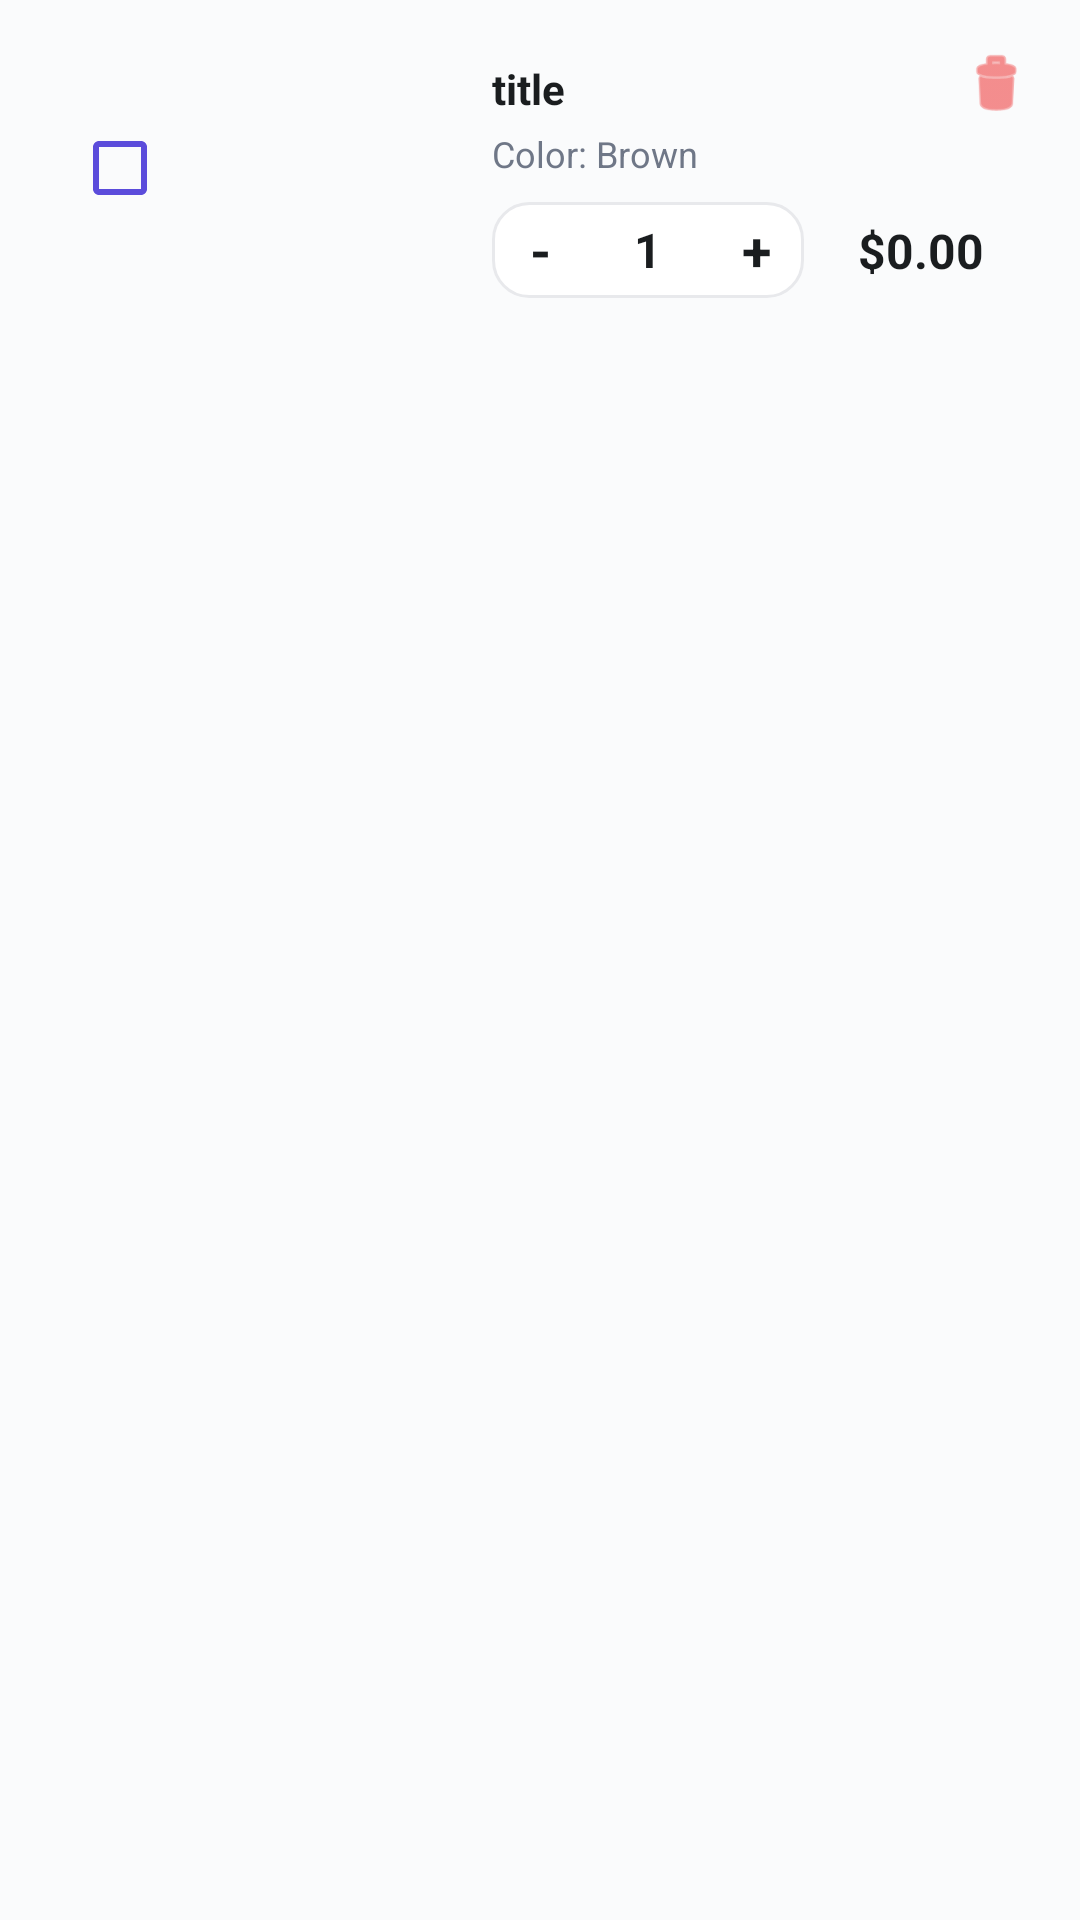

Locate icon controls on the screen. Image size 1080w x 1920h, boxes as (x1,y1,x2,y2).
Delete item: (976,55,1017,111)
